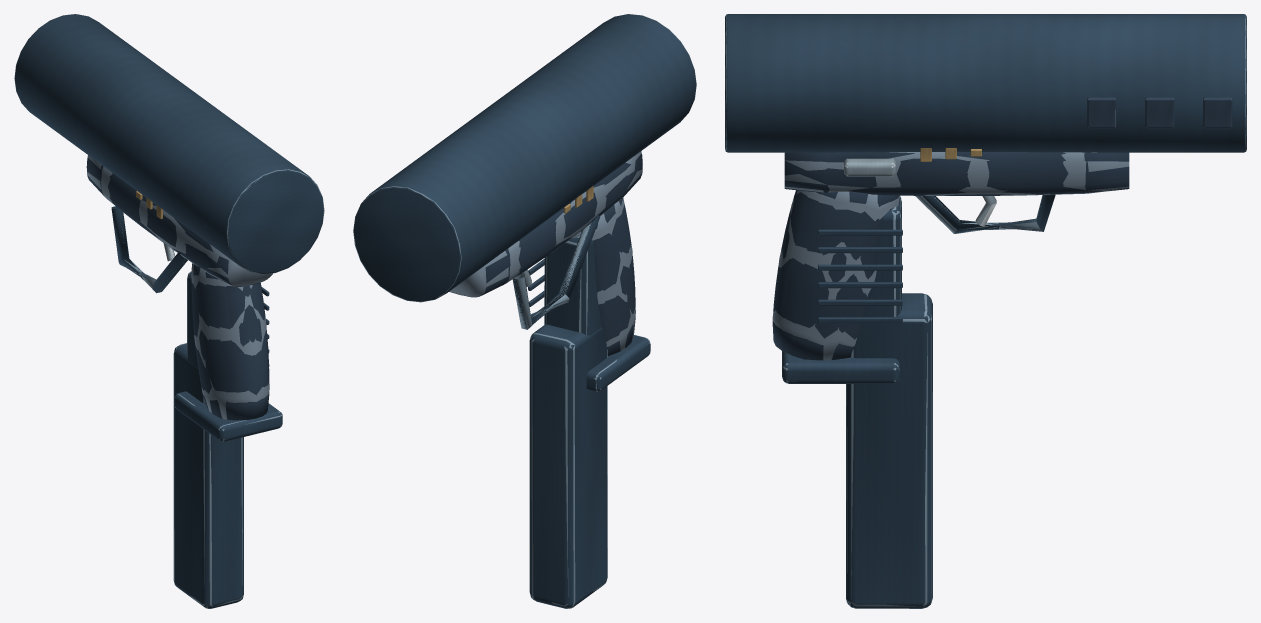
File: anime-tec9.glb
3 views of the same model, side by side, from view 1: azimuth 30°, elevation 25°; view 2: azimuth 150°, elevation 25°; view 3: azimuth 270°, elevation 25° (orthographic). The views are drawn at different scales.
Visible parts, largest first — view 1: weapon_Parkerized steel, magazine_Parkerized steel, weapon_Polymer, World hardware; view 2: weapon_Parkerized steel, magazine_Parkerized steel, World hardware, weapon_Polymer; view 3: weapon_Parkerized steel, magazine_Parkerized steel, weapon_Polymer, World hardware, weapon_Machined edges.
Part boxes in pixels (bbox=[...]): weapon_Parkerized steel: bbox=[14, 14, 323, 366]; magazine_Parkerized steel: bbox=[174, 272, 282, 608]; weapon_Polymer: bbox=[86, 157, 270, 420]; World hardware: bbox=[14, 14, 324, 608]; weapon_Parkerized steel: bbox=[353, 14, 696, 329]; magazine_Parkerized steel: bbox=[529, 237, 650, 608]; World hardware: bbox=[353, 14, 696, 608]; weapon_Polymer: bbox=[449, 153, 642, 355]; weapon_Parkerized steel: bbox=[725, 14, 1246, 323]; magazine_Parkerized steel: bbox=[782, 197, 932, 608]; weapon_Polymer: bbox=[772, 97, 1232, 360]; World hardware: bbox=[725, 14, 1246, 608]; weapon_Machined edges: bbox=[844, 158, 895, 176].
Size of the model in its own units: 0.0735 by 0.331 by 0.27.
Materials: 8 (6 with a texture image).
